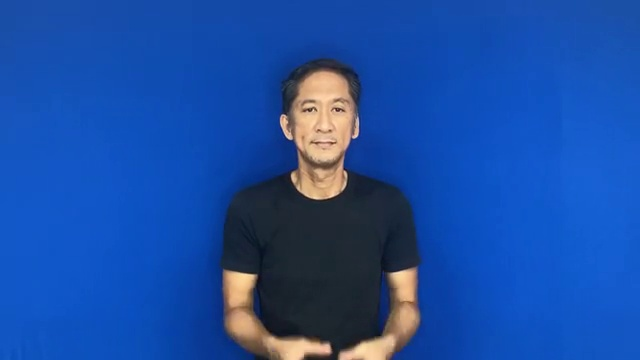egg: (262, 320, 401, 360)
